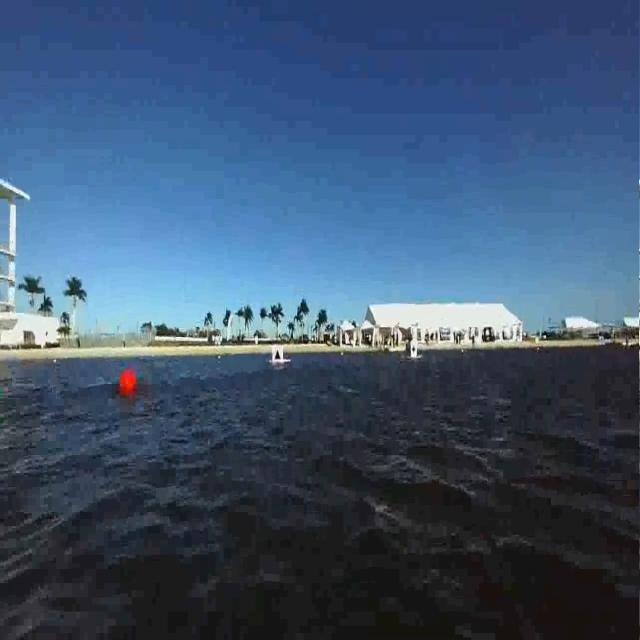red-buoy: (119, 369, 136, 399)
